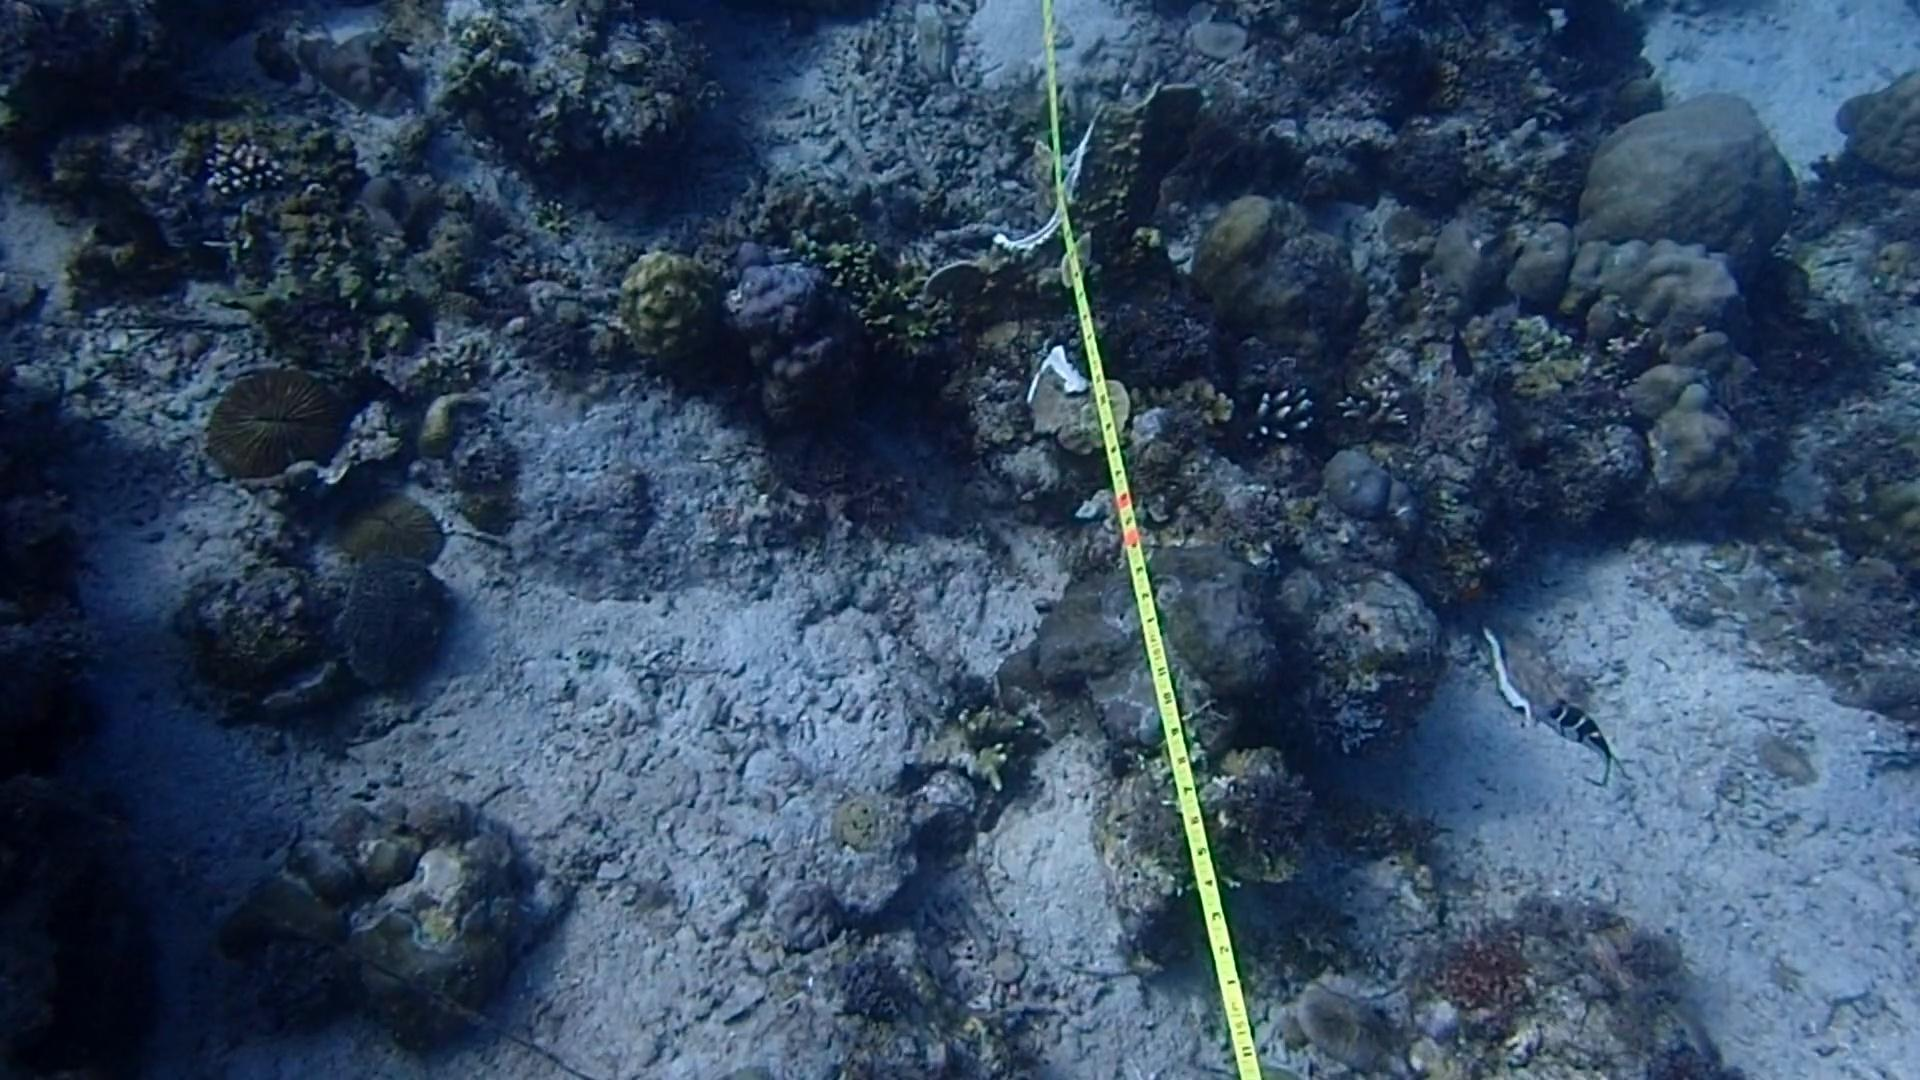Striped Fish: (1523, 688, 1633, 782)
